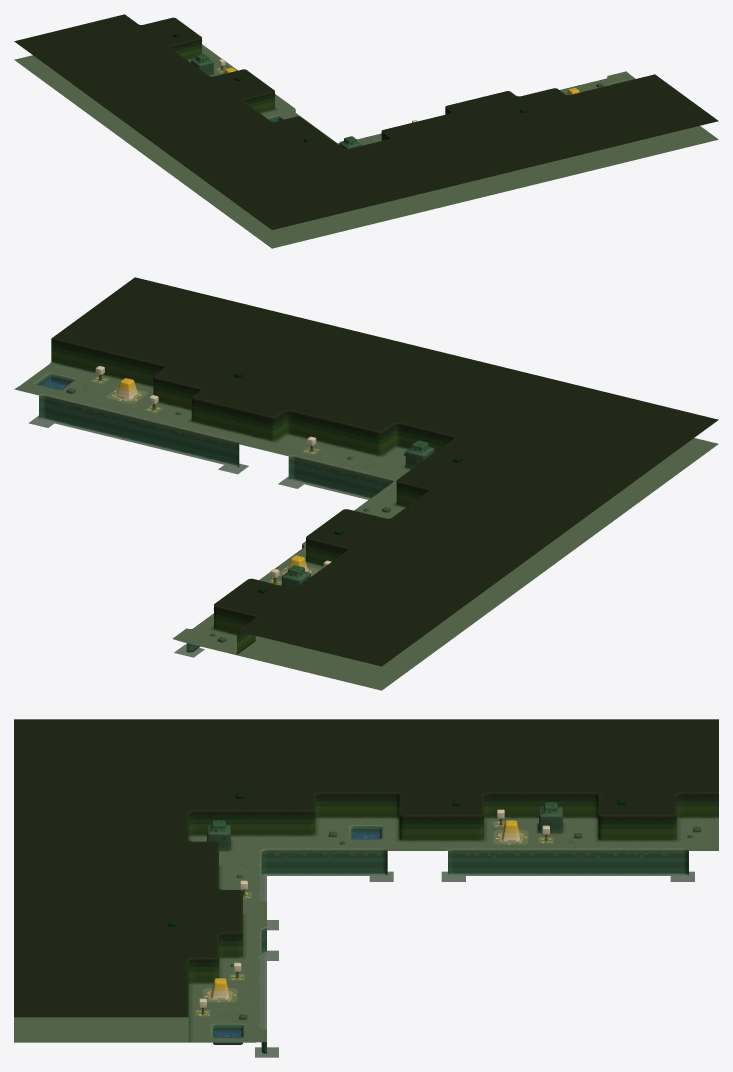
Rendered from C_cave2_out_RU.fbx.
3 views of the same model, one above another, from view 1: azimuth 30°, elevation 25°; view 2: azimuth 150°, elevation 25°; view 3: azimuth 270°, elevation 25° (orthographic). The views are drawn at different scales.
Visible parts, largest first — view 1: C_cave2_out_RU; view 2: C_cave2_out_RU; view 3: C_cave2_out_RU.
Boxes of the visible parts, x1,y1,x2,y2 form: C_cave2_out_RU: [14, 14, 718, 248]; C_cave2_out_RU: [14, 277, 718, 690]; C_cave2_out_RU: [14, 719, 718, 1057].
Bounding box in the file's own units: 117 × 9.82 × 117.
